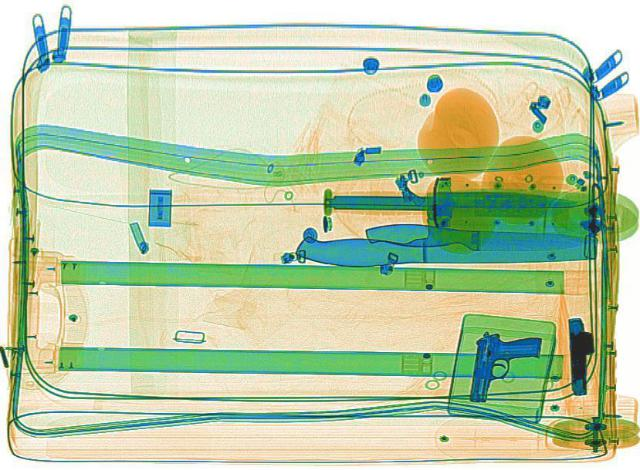Gun: (462, 328, 540, 405), (562, 315, 596, 394)
Knife: (293, 187, 597, 265), (324, 190, 582, 216), (363, 222, 587, 248)
